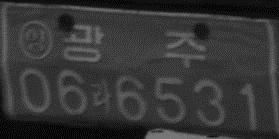0: (18, 67, 52, 114)
1: (234, 81, 265, 131)
3: (193, 77, 226, 128)
5: (154, 75, 187, 124)
6: (114, 75, 147, 122), (56, 70, 87, 117)
광주_D: (61, 22, 207, 68)
라: (89, 77, 113, 114)
영: (16, 19, 53, 60)
